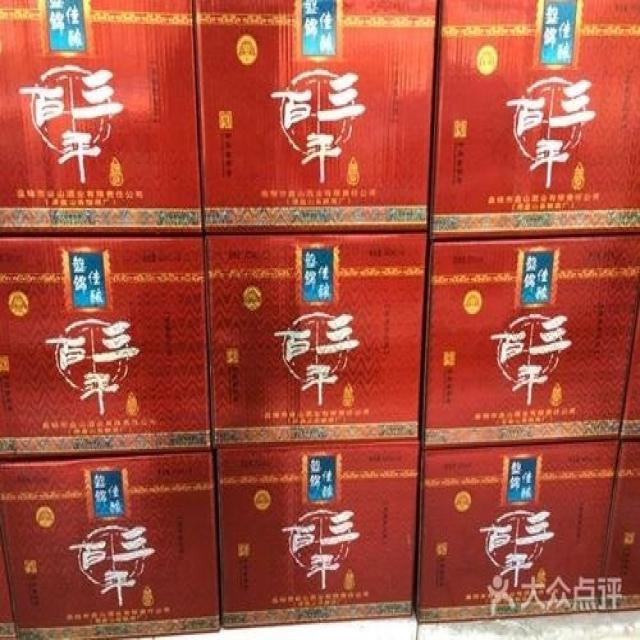box: (194, 1, 439, 236), (430, 1, 639, 240), (204, 234, 430, 450), (0, 2, 203, 236), (0, 238, 212, 461), (420, 234, 639, 449), (0, 450, 220, 637), (215, 445, 419, 630), (417, 441, 620, 623), (601, 437, 639, 613), (618, 302, 639, 440), (0, 536, 19, 638)
